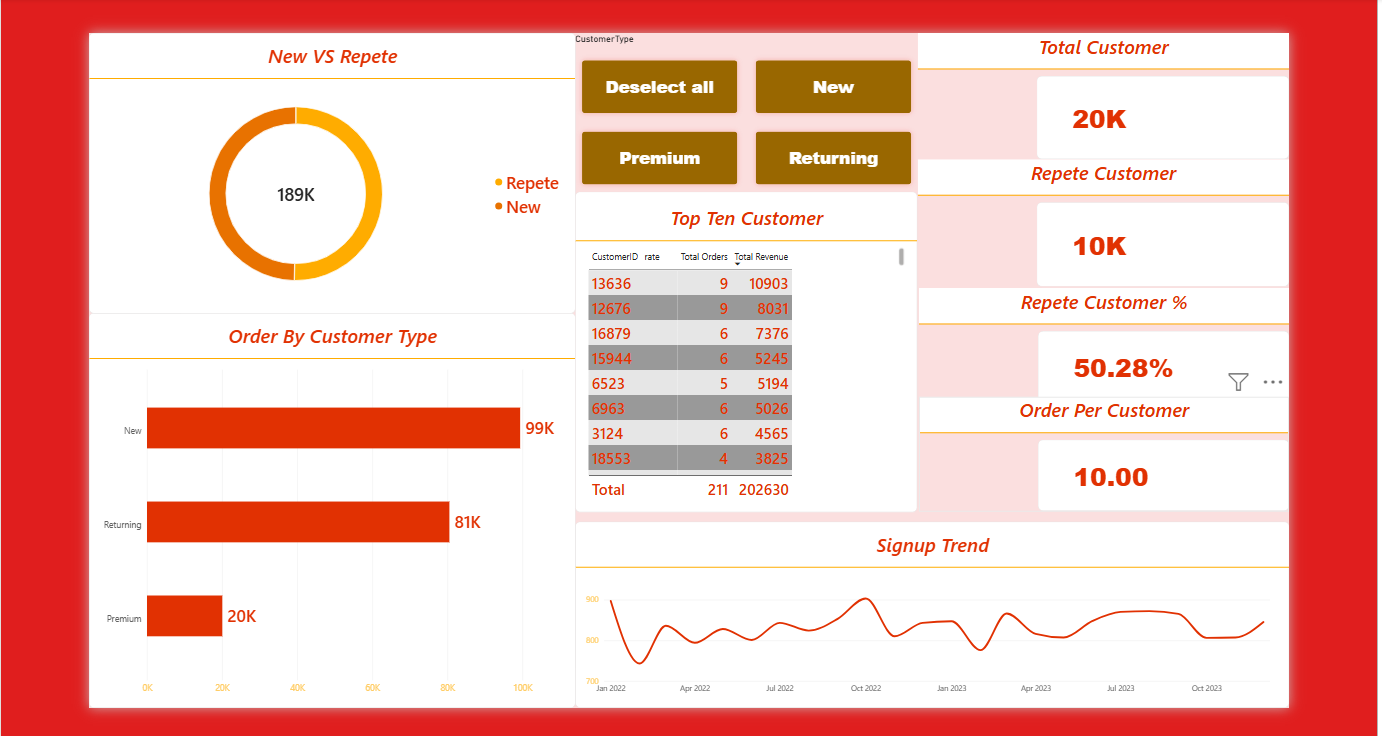

The page's visual inventory and layout, read from the dashboard file:
{"tool":"powerbi","page":{"name":" Coustomer","canvas":[1920,1080],"ordinal":1},"visuals":[{"type":"cardVisual","title":"Total Customer","fields":{"Data":["Orders.Total Customers"]},"box":[1325.6,0,594.9,202.6],"z":0},{"type":"cardVisual","title":"Repete Customer %","fields":{"Data":["Customers.Repeat Customer %"]},"box":[1327.7,407.4,592.7,183.2],"z":1000},{"type":"cardVisual","title":"Order Per Customer","fields":{"Data":["Customers.Orders Per Customer"]},"box":[1327.7,582,592.7,183.2],"z":2000},{"type":"cardVisual","title":"Repete Customer","fields":{"Data":["Customers.Repeat Customers"]},"box":[1325.6,202.6,594.9,204.8],"z":3000},{"type":"lineChart","title":"Signup Trend","fields":{"Category":["Customers.SignupDate.Variation.Date Hierarchy.Year","Customers.SignupDate.Variation.Date Hierarchy.Month"],"Y":["Orders.Total Customers"]},"box":[778.1,782.4,1142.3,297.4],"z":5000},{"type":"clusteredBarChart","title":"Order By Customer Type","fields":{"Category":["Customers.CustomerType"],"Y":["Orders.Total Orders"]},"box":[0,448.7,778,631.9],"z":6000},{"type":"donutChart","title":"New VS Repete","fields":{"Category":["Customers.Repete vs new"],"Y":["Orders.Total Orders"]},"box":[0,0,778,448.7],"z":7000},{"type":"tableEx","title":"Top Ten Customer","fields":{"Values":["Customers.CustomerID","Restaurants.rate","Orders.Total Orders","Orders.Total Revenue"]},"box":[778,253.2,547.5,512.5],"z":8000},{"type":"advancedSlicerVisual","fields":{"Values":["Customers.CustomerType"]},"box":[778,0,549.6,253.2],"z":8001}]}

Visuals, with their boxes on the page's 1920x1080 design canvas (x1, y1, x2, y2). These are canvas units, not pixel positions in the 1382x736 screenshot, which may show the page scaled, cropped or inside an application window:
"Total Customer" cardVisual: x1=1326 y1=0 x2=1920 y2=203
"Repete Customer %" cardVisual: x1=1328 y1=407 x2=1920 y2=591
"Order Per Customer" cardVisual: x1=1328 y1=582 x2=1920 y2=765
"Repete Customer" cardVisual: x1=1326 y1=203 x2=1920 y2=407
"Signup Trend" lineChart: x1=778 y1=782 x2=1920 y2=1080
"Order By Customer Type" clusteredBarChart: x1=0 y1=449 x2=778 y2=1081
"New VS Repete" donutChart: x1=0 y1=0 x2=778 y2=449
"Top Ten Customer" tableEx: x1=778 y1=253 x2=1326 y2=766
advancedSlicerVisual - Customers.CustomerType: x1=778 y1=0 x2=1328 y2=253
